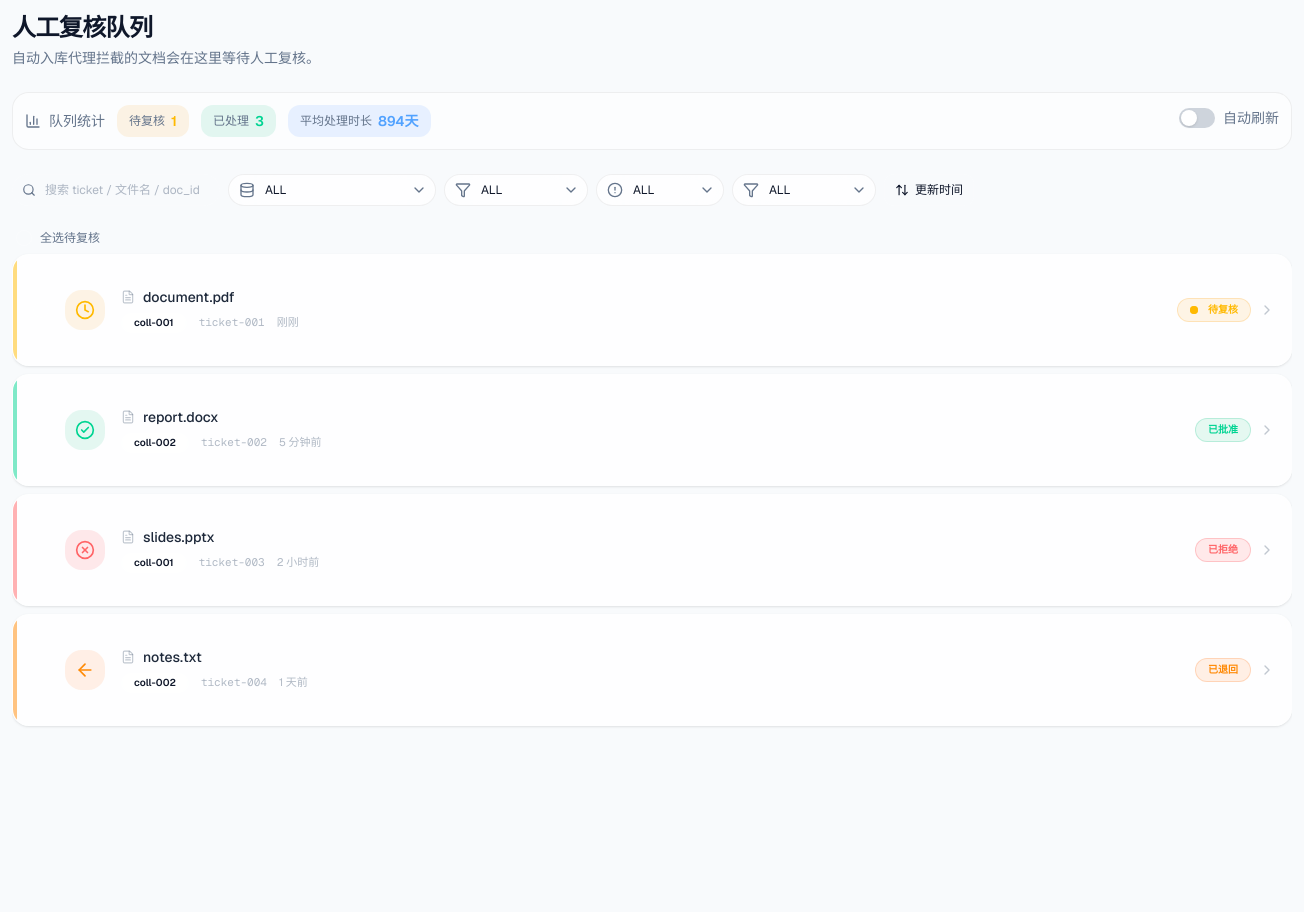
ReviewQueuePage › Collection Filter › filters tickets when selecting a collection
Expected: the text "document.pdf" is shown, [143, 287, 234, 307]
# Open collection select
Click the 1st dropdown labelled "ALL ▼" at point(332, 190), box [228, 174, 436, 206]
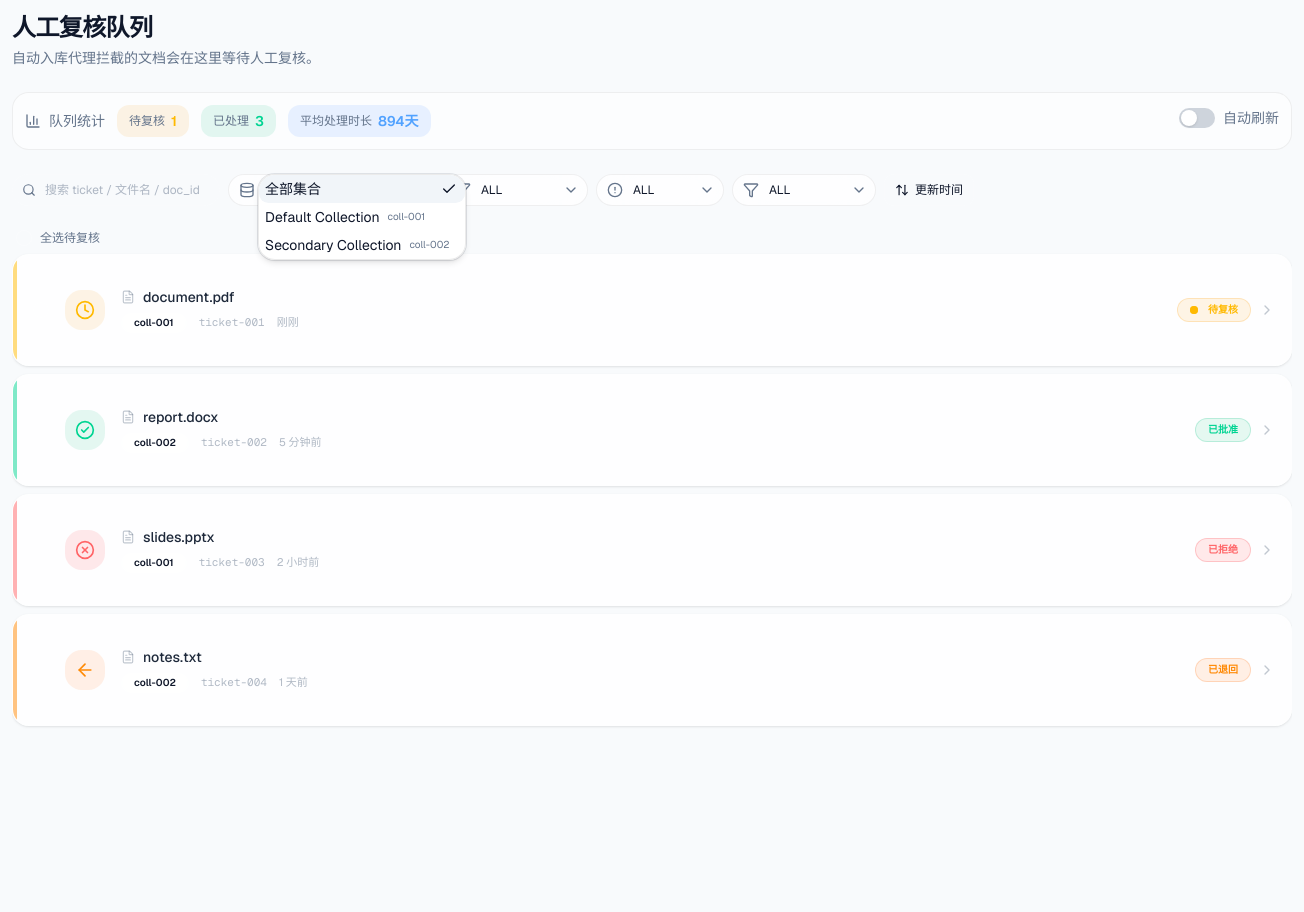
Expected: the text "Default Collection" is shown
Click the text "Default Collection" at point(322, 217), box [265, 207, 380, 227]
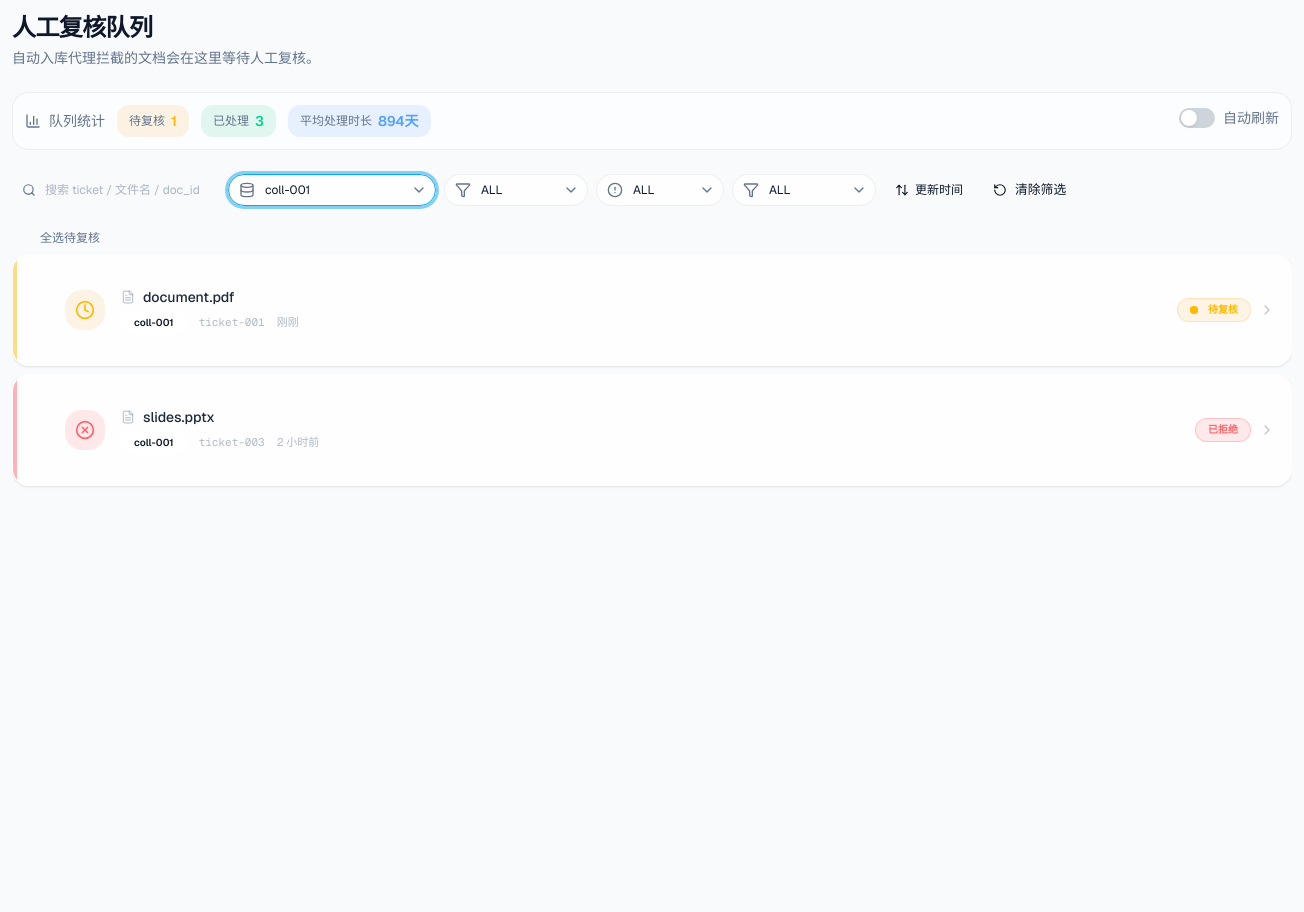
Expected: the text "document.pdf" is shown, [143, 287, 234, 307]
Expected: the link "report.docx" is gone
